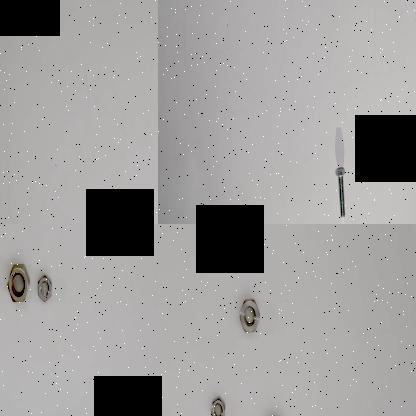Bolts: (327, 159, 349, 224)
NUTS: (5, 258, 29, 304), (237, 292, 262, 336), (34, 268, 54, 308), (208, 390, 226, 416)
